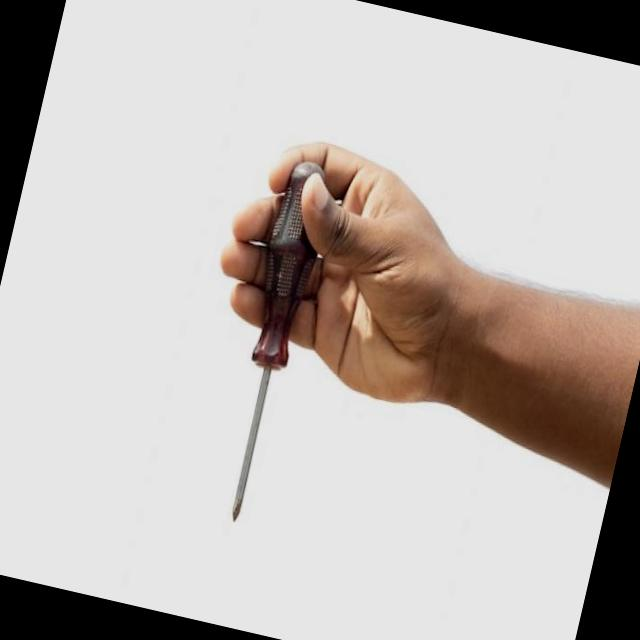screwdriver: (232, 161, 323, 519)
